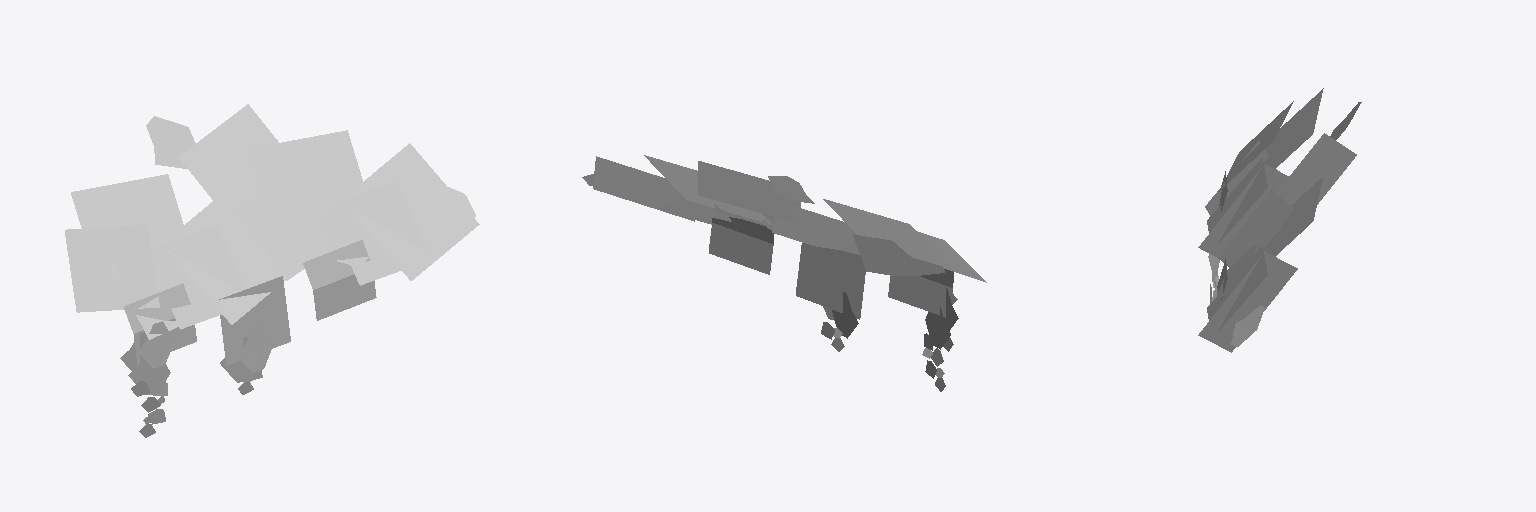
File: Prop_Vine6.obj
3 views of the same model, side by side, from view 1: azimuth 30°, elevation 25°; view 2: azimuth 150°, elevation 25°; view 3: azimuth 270°, elevation 25° (orthographic).
Parts seen in each view (by area): view 1: Prop_Vine6; view 2: Prop_Vine6; view 3: Prop_Vine6.
Part boxes in pixels (x1,y1,x2,y2): Prop_Vine6: (65, 104, 479, 437); Prop_Vine6: (582, 155, 986, 391); Prop_Vine6: (1198, 88, 1361, 352).
Bounding box in the file's own units: 4.14 × 2.47 × 1.47.